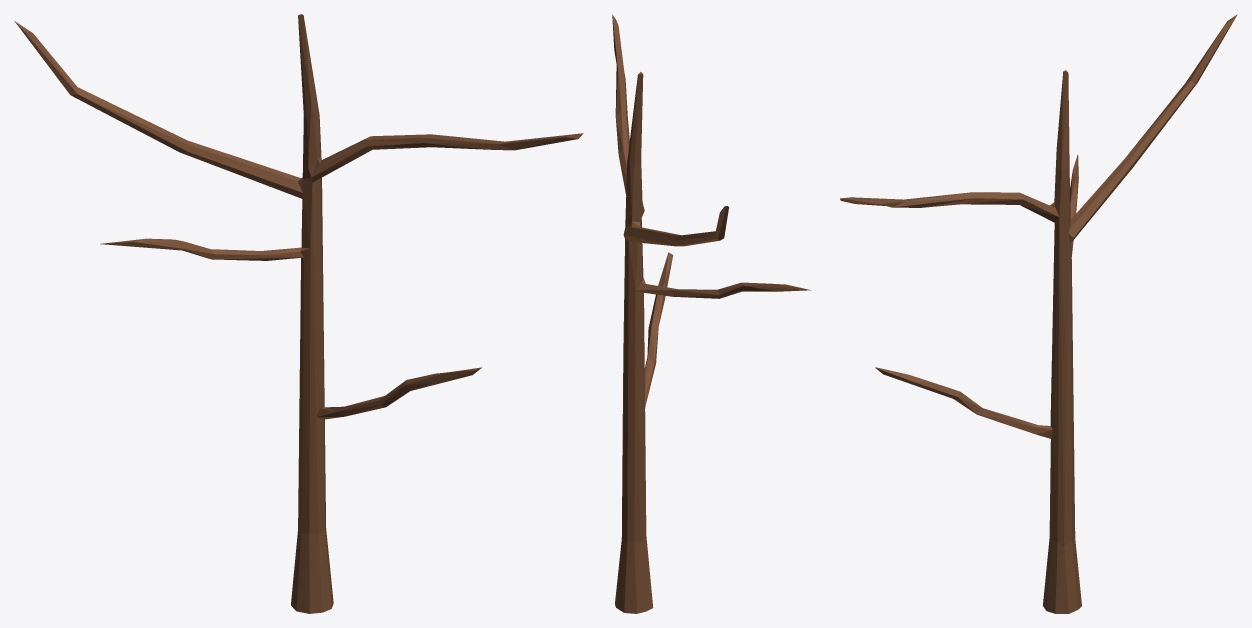
File: SM_tree_winter_02.fbx
3 views of the same model, side by side, from view 1: azimuth 30°, elevation 25°; view 2: azimuth 150°, elevation 25°; view 3: azimuth 270°, elevation 25° (orthographic). The views are drawn at different scales.
Parts seen in each view (by area): view 1: Object065; view 2: Object065; view 3: Object065.
Boxes of the visible parts, x1,y1,x2,y2 form: Object065: [14, 14, 583, 613]; Object065: [612, 14, 810, 613]; Object065: [840, 14, 1237, 613].
Bounding box in the file's own units: 120 × 130 × 192.
